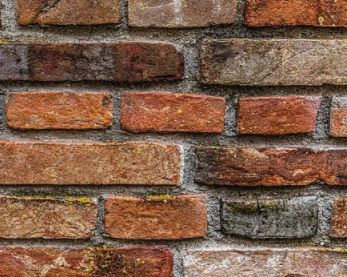brick: (1, 142, 187, 187), (1, 43, 186, 84), (197, 38, 347, 87), (194, 143, 347, 191), (1, 246, 175, 277), (181, 246, 347, 276), (120, 90, 225, 136), (4, 90, 115, 132), (106, 195, 211, 238), (1, 194, 98, 237), (219, 197, 318, 239), (125, 1, 242, 33), (236, 94, 319, 137), (13, 1, 123, 31), (244, 1, 347, 30)
